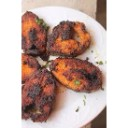seerfish: (24, 69, 56, 125), (51, 58, 102, 92), (47, 21, 92, 53), (22, 11, 48, 58)
